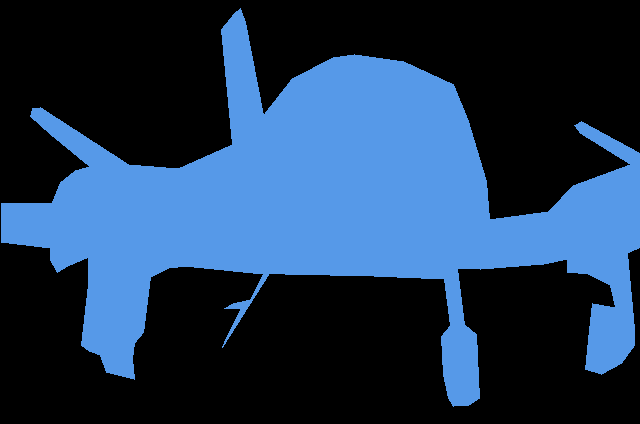Airplane: (1, 8, 640, 407)
